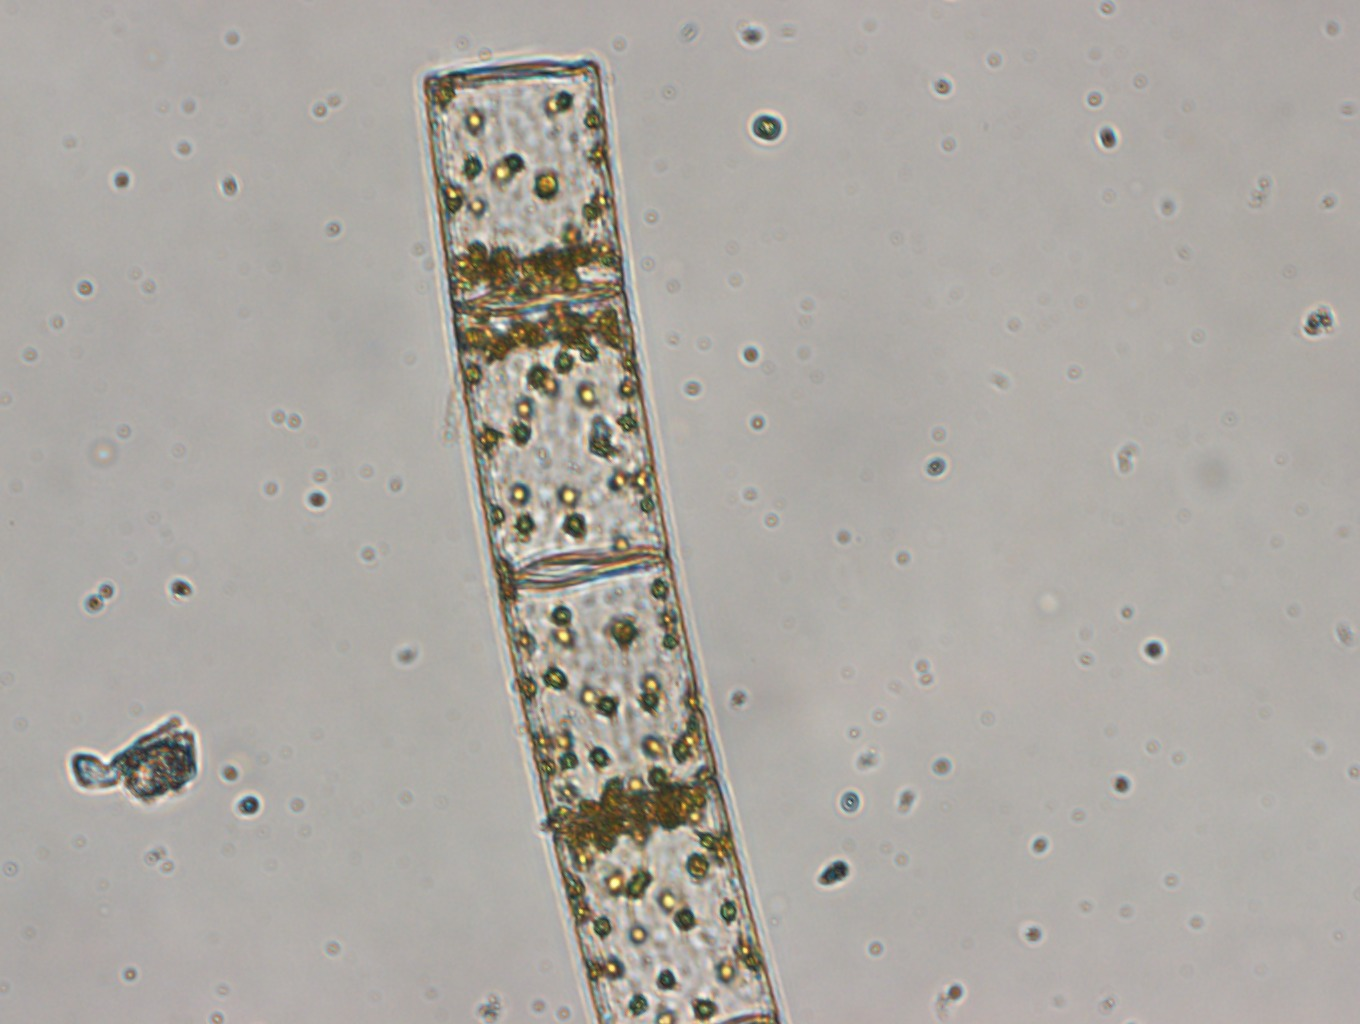guinardia flaccida: (423, 54, 781, 1023)
